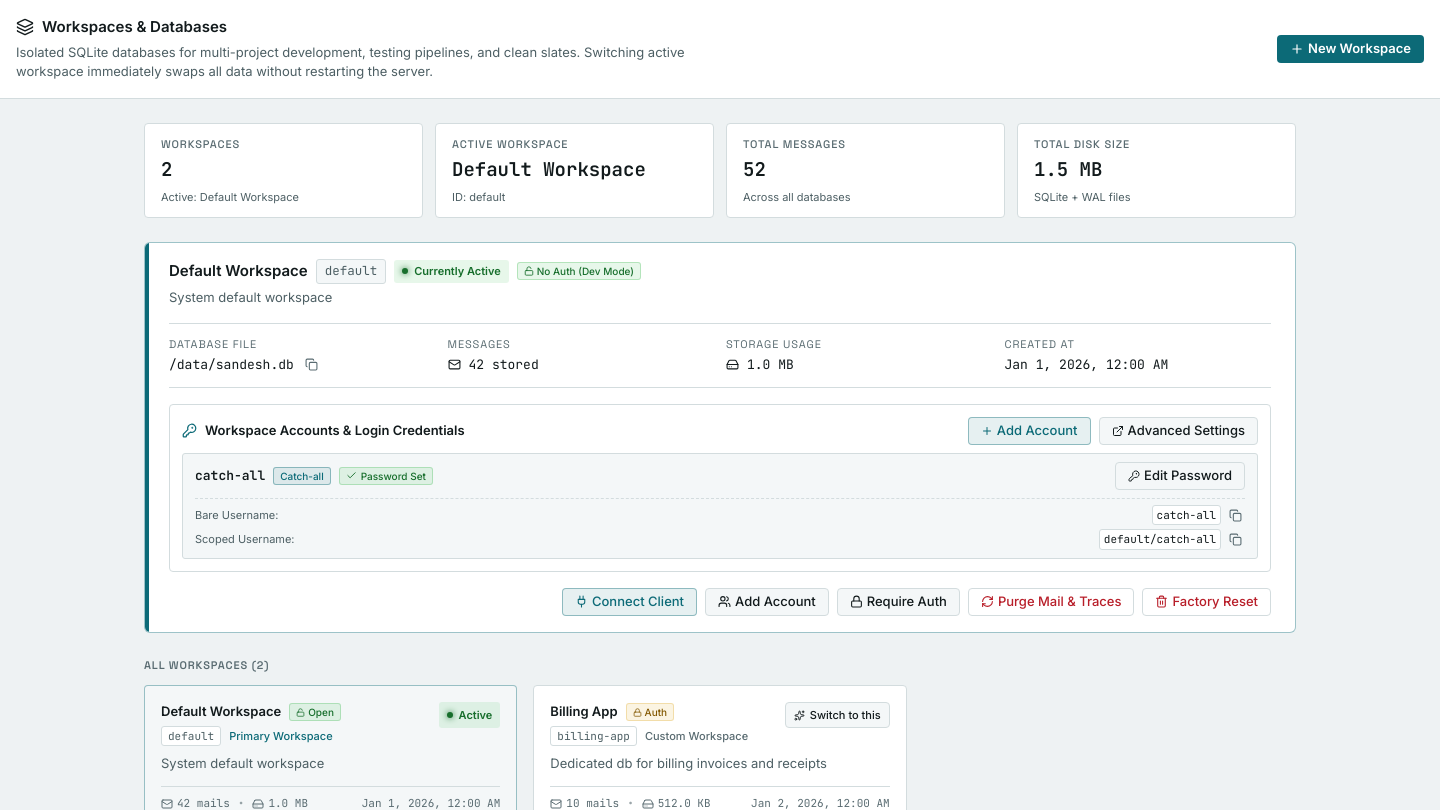
Test case: WorkspacesRoute › opens AccountModal with correct styling classes and accessibility attributes when clicking Edit Password
expect the text "Edit Password" is shown: met, box [1144,466,1232,486]
Click the button "Edit Password". click: coordinates (1180, 476)
box: [1115,462,1245,490]
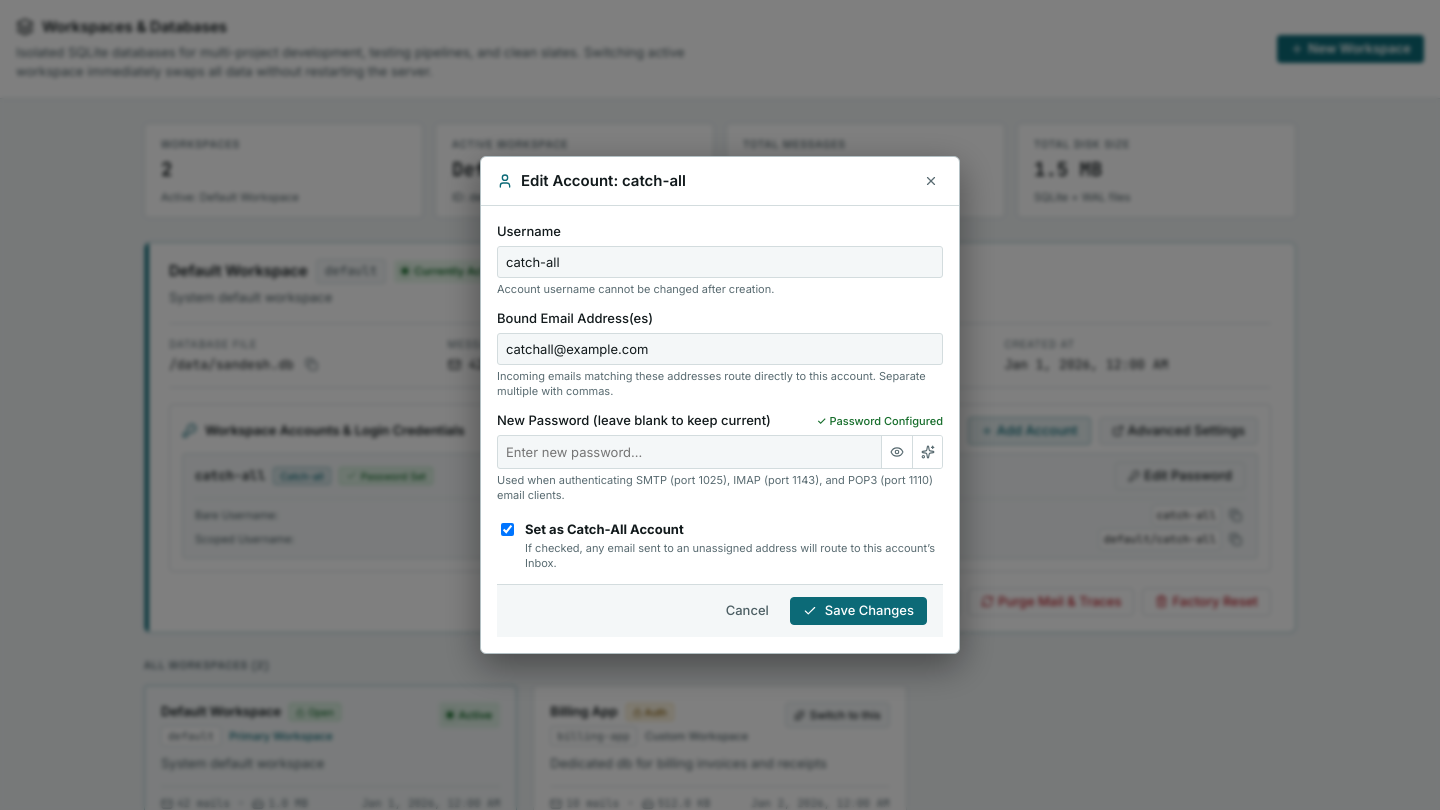
expect the heading "Edit Account: catch-all" is shown: met, box [521,170,686,192]
expect the checkbox labelled "Set as Catch-All Account" is checked: met, box [501,523,514,536]
expect the button "Save Changes" is shown: met, box [790,597,927,625]
